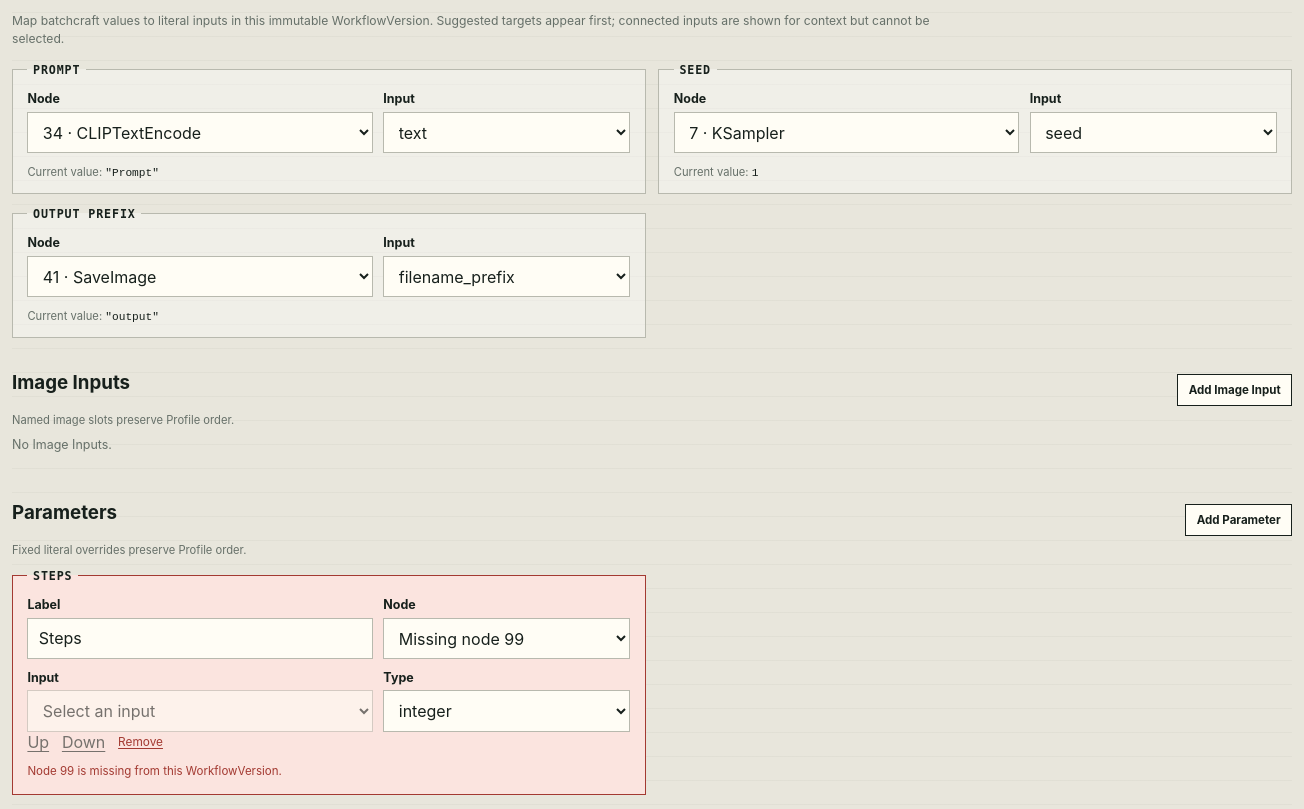
WorkflowProfileMapper › retains a copied broken Parameter for repair and rejects connected and duplicate targets
Expected: the text "Node 99 is missing from this WorkflowVersion." is shown, [27,764,282,778]
Select "7 · KSampler" in the dropdown named "Steps node" at (507, 638), box [383,618,630,659]
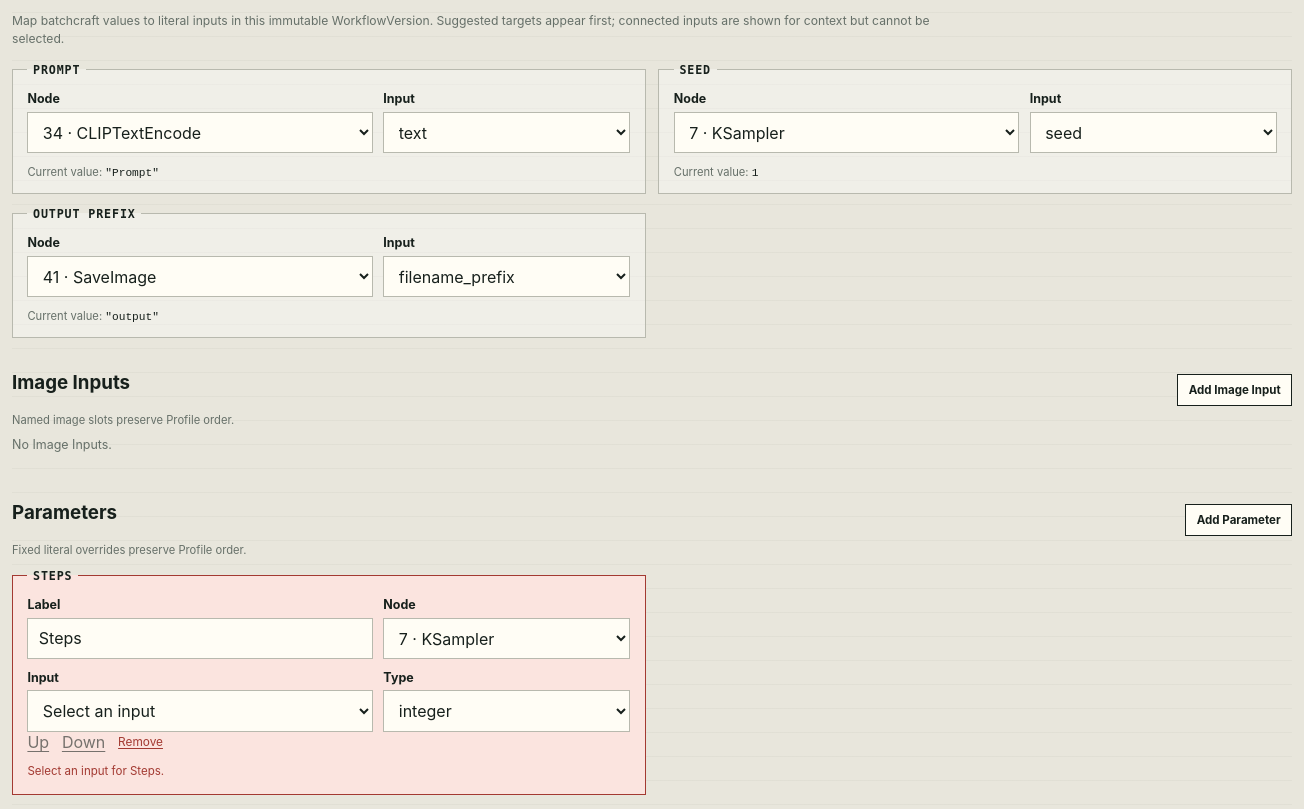
Select "seed" in the dropdown named "Steps input" at (200, 711), box [27,690,373,732]
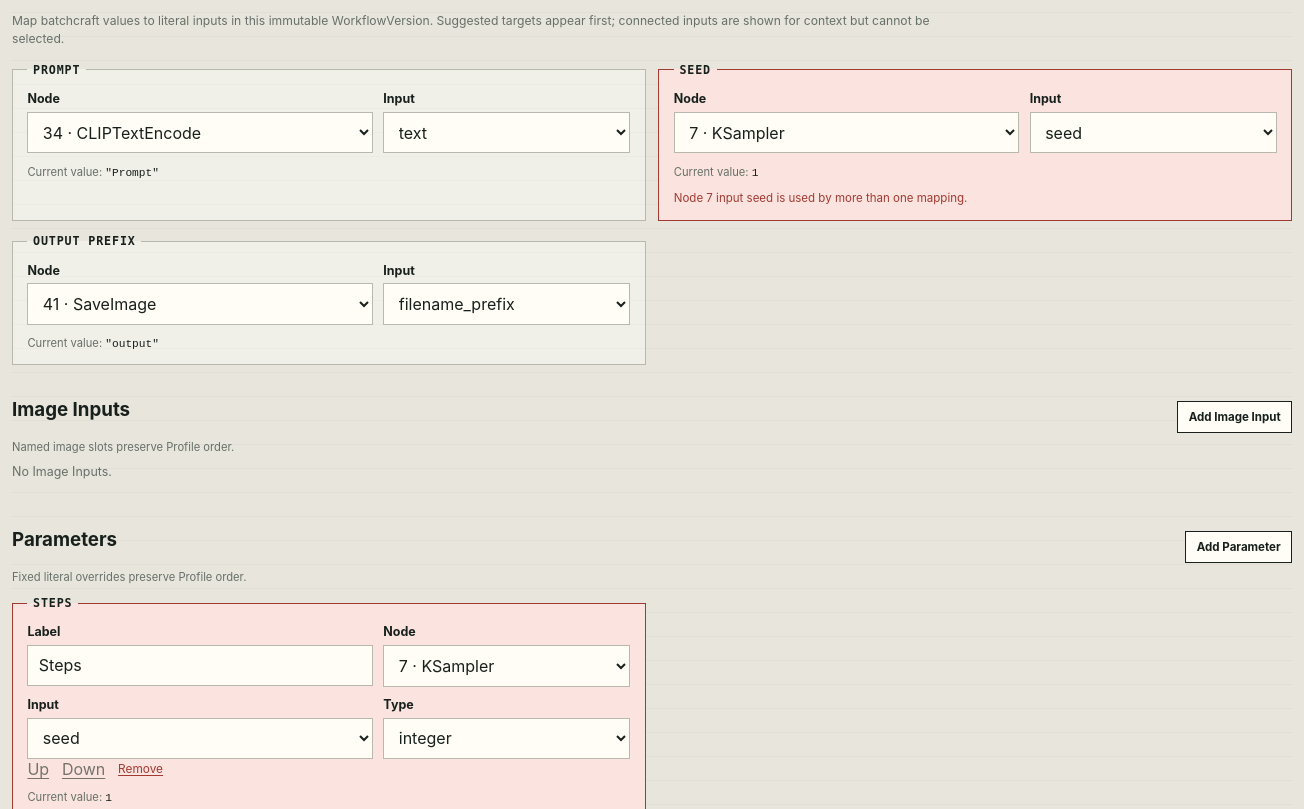
Expected: the text "Node 7 input seed is used by more than one mapping." is shown, [674,191,967,205]
